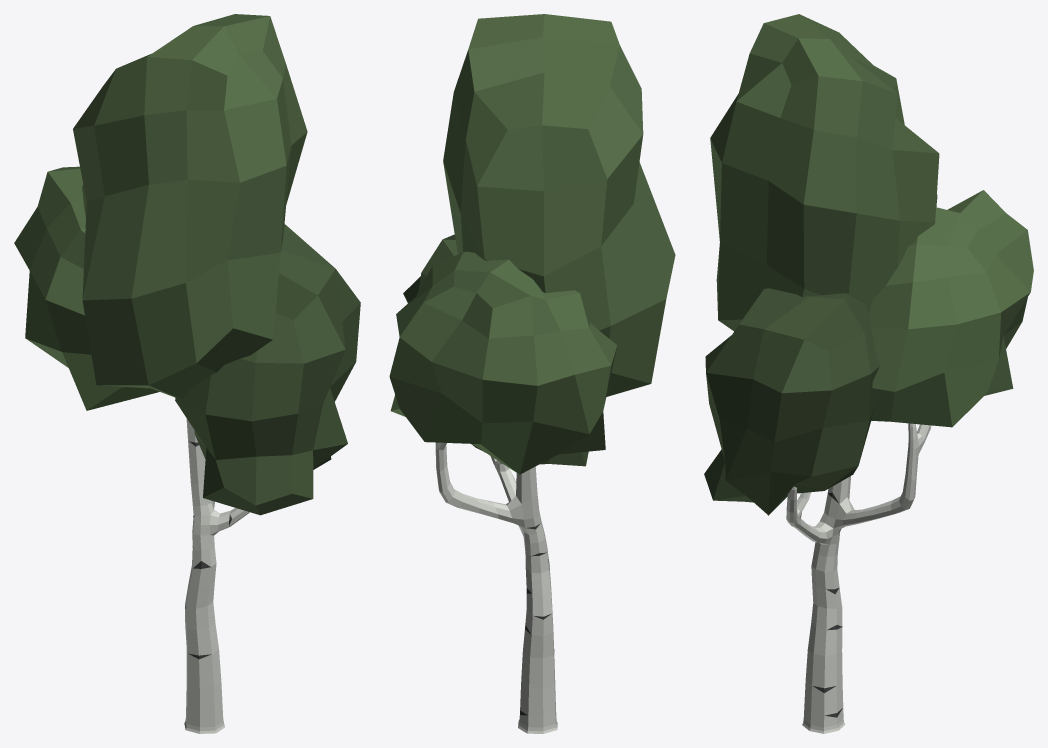
Rendered from BirchTree_3.glb.
3 views of the same model, side by side, from view 1: azimuth 30°, elevation 25°; view 2: azimuth 150°, elevation 25°; view 3: azimuth 270°, elevation 25° (orthographic). The views are drawn at different scales.
Parts seen in each view (by area): view 1: BirchTree_3; view 2: BirchTree_3; view 3: BirchTree_3.
Boxes of the visible parts, x1,y1,x2,y2 form: BirchTree_3: (14, 14, 360, 733); BirchTree_3: (389, 14, 675, 733); BirchTree_3: (704, 14, 1033, 733).
Bounding box in the file's own units: 1.57 × 4.09 × 1.77.
